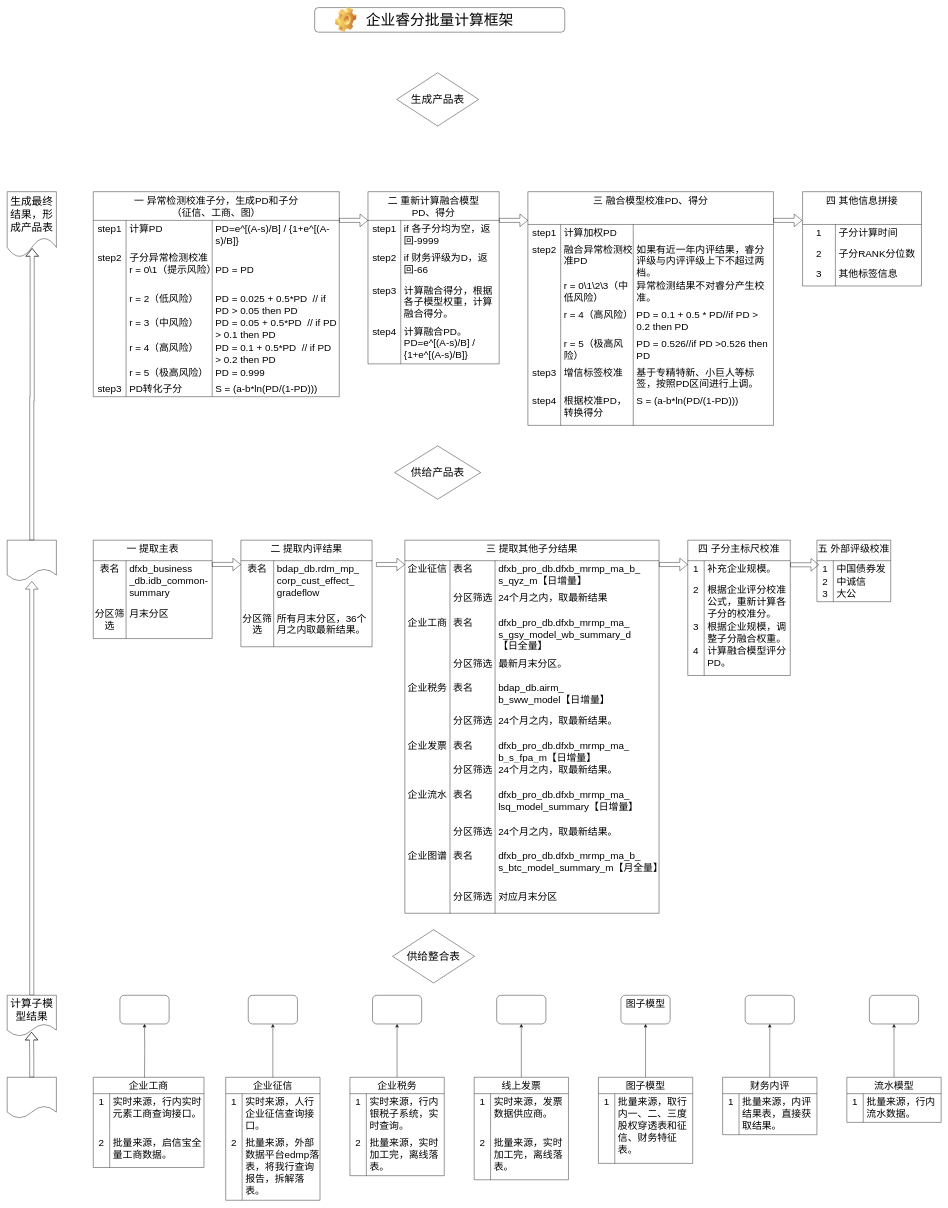
Some shapes in this 948 by 1208 pixel diagram are drawn without their labels. The centre of each missing label's shape, as x and y in pixels:
"发票子模型" belongs at (521,1009).
"子模型整合汇总" belongs at (31,560).
"工商子模型" belongs at (144,1009).
"征信子模型" belongs at (272,1009).
"流水子模型" belongs at (894,1009).
"税务子模型" belongs at (397,1009).
"获取数据 加工特征" belongs at (31,1097).
"财务内评模型" belongs at (769,1009).
